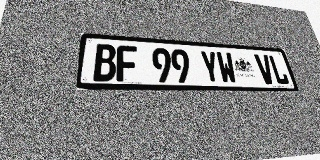9: (170, 48, 192, 83), (152, 47, 173, 82)
B: (93, 44, 116, 81)
F: (116, 45, 138, 82)
L: (268, 55, 290, 85)
V: (254, 54, 276, 84)
W: (215, 51, 238, 84)
Y: (199, 50, 221, 83)
